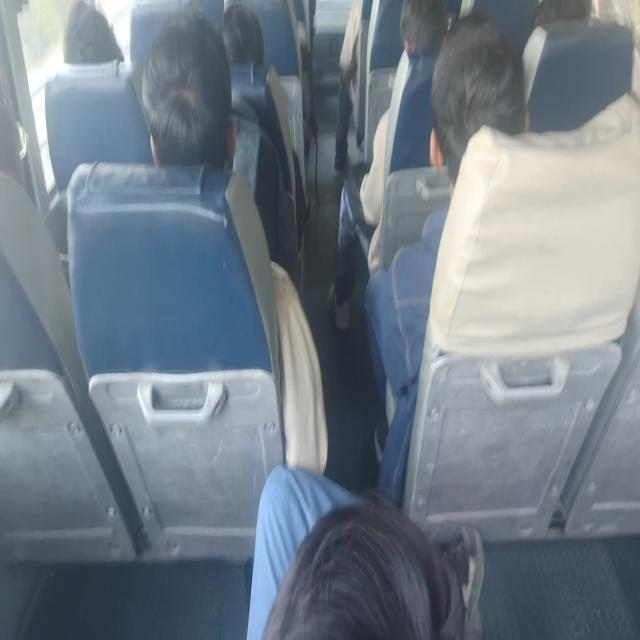person: (253, 460, 472, 640), (145, 30, 230, 191), (426, 32, 518, 154), (389, 0, 459, 78), (208, 0, 268, 77), (65, 3, 124, 78), (0, 80, 36, 200), (513, 0, 608, 40)
